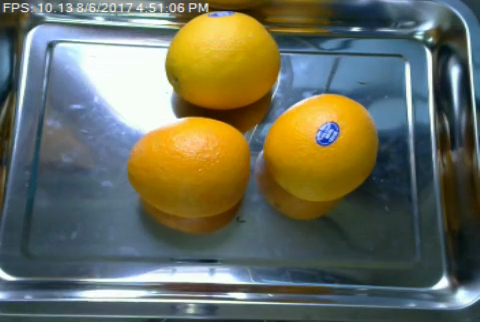Orange: (127, 118, 249, 220), (265, 93, 379, 201), (165, 11, 283, 108)
